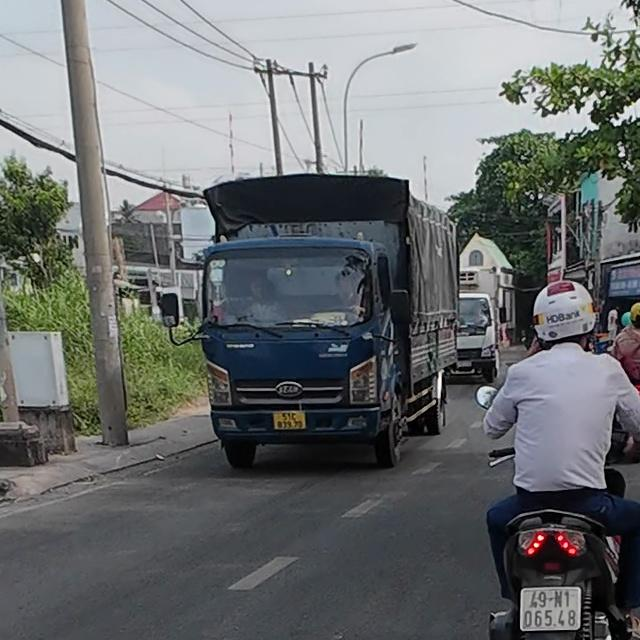license-plate: (520, 586, 582, 631)
